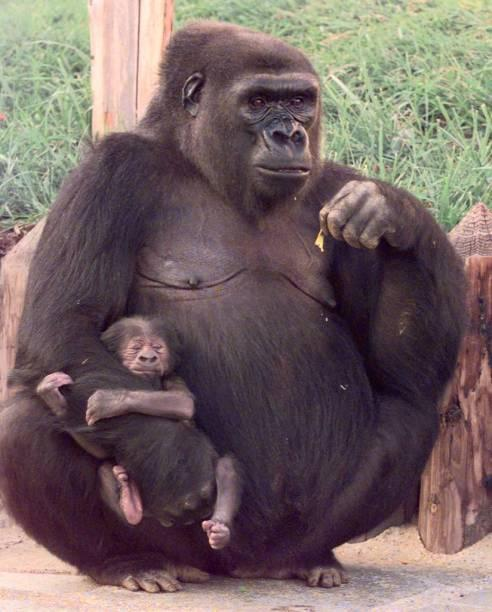gorille_Autres: (10, 7, 471, 606)
